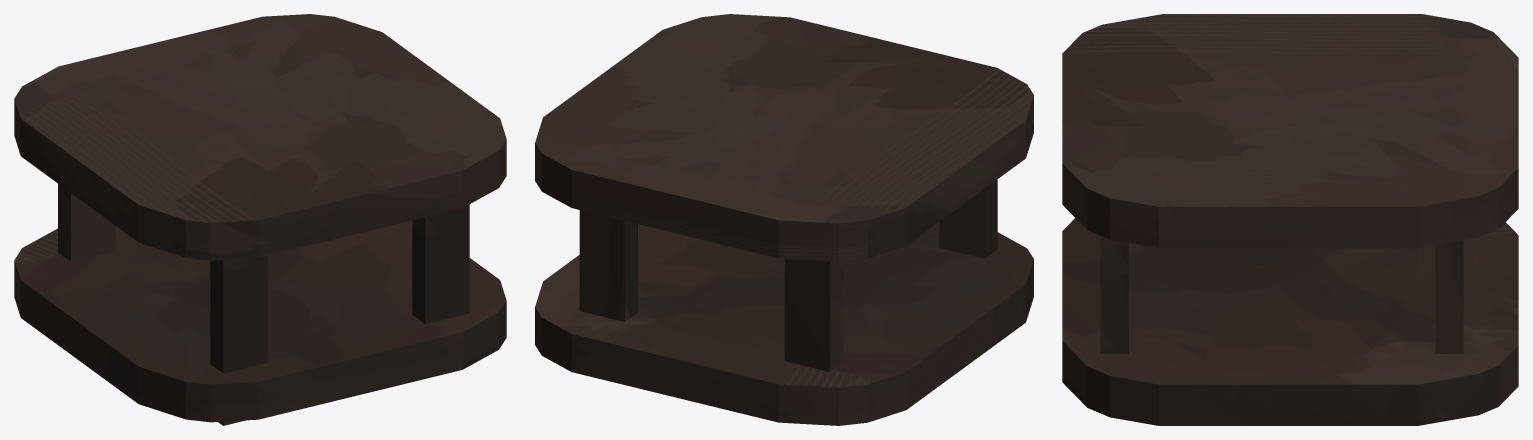
File: M-CoffeeTable (1).fbx
The picture shows the model from 3 angles, left to right: view 1: azimuth 30°, elevation 25°; view 2: azimuth 150°, elevation 25°; view 3: azimuth 270°, elevation 25°; orthographic projection. The views are drawn at different scales.
Parts seen in each view (by area): view 1: Cube.004; view 2: Cube.004; view 3: Cube.004.
Part boxes in pixels (left/top/right/bottom): Cube.004: left=14, top=14, right=506, bottom=425; Cube.004: left=535, top=14, right=1033, bottom=425; Cube.004: left=1062, top=14, right=1518, bottom=425.
Size of the model in its own units: 100 by 100 by 56.83.
3 materials, 3 textured.
